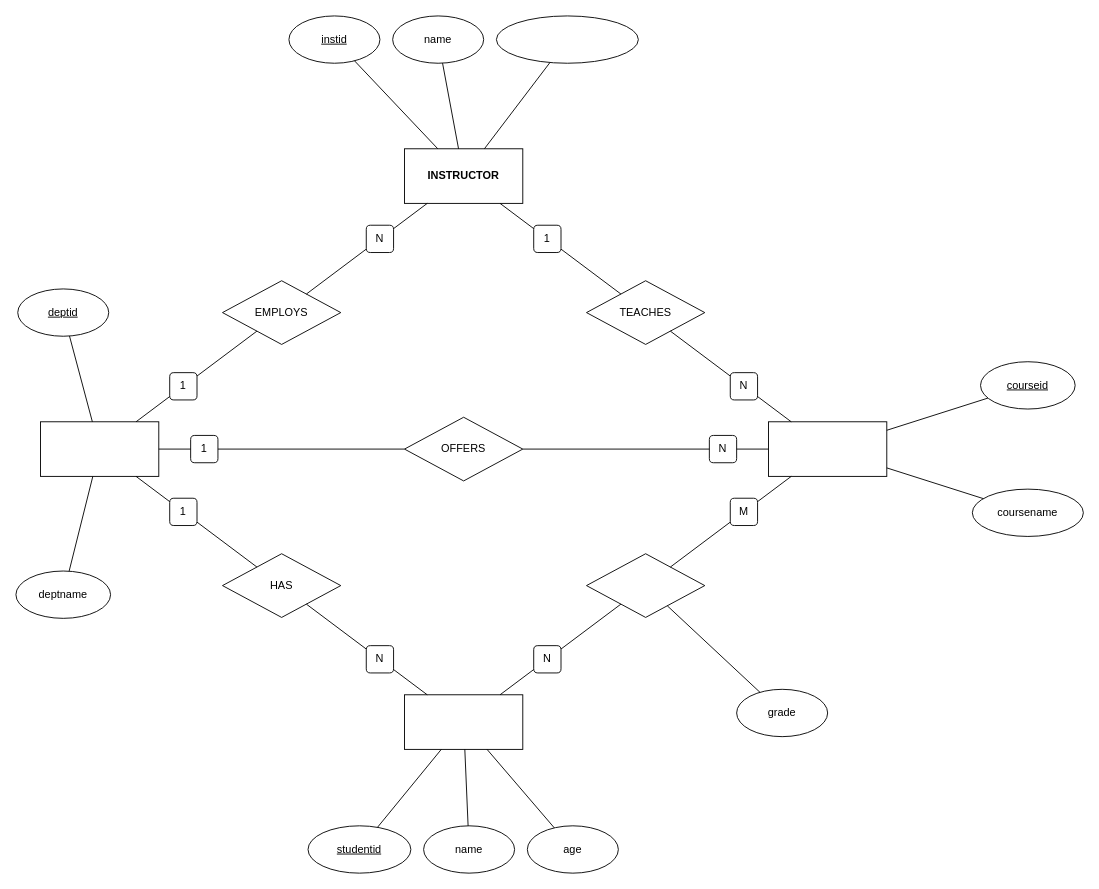
Image size: 1099x889. Some labels were removed from this diagram. Here are the shapes that lost their labels. From the top down, the centre of each, then its label:
[566,39]: specialization
[99,448]: DEPARTMENT
[827,448]: COURSE
[645,585]: ENROLLED_IN
[463,721]: STUDENT
